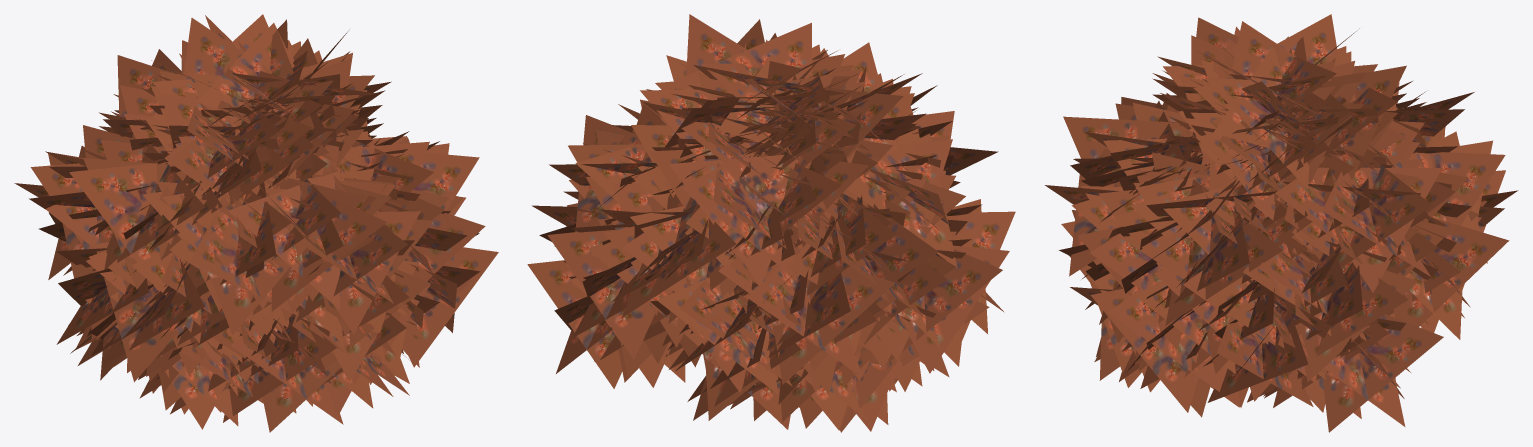
The model's file is Crataegus_Monogyna_Autumn_Young.glb.
3 renders of one model, left to right at view 1: azimuth 30°, elevation 25°; view 2: azimuth 150°, elevation 25°; view 3: azimuth 270°, elevation 25°, orthographic. The views are drawn at different scales.
Visible parts, largest first — view 1: Crataegus_Monogyna_Autumn_Young__LOD3; view 2: Crataegus_Monogyna_Autumn_Young__LOD3; view 3: Crataegus_Monogyna_Autumn_Young__LOD3.
Part boxes in pixels (x1,y1,x2,y2): Crataegus_Monogyna_Autumn_Young__LOD3: (14, 14, 498, 432); Crataegus_Monogyna_Autumn_Young__LOD3: (527, 14, 1015, 432); Crataegus_Monogyna_Autumn_Young__LOD3: (1045, 14, 1518, 432).
Size of the model in its own units: 2.32 by 1.7 by 2.26.
Materials: 3 (3 with a texture image).
